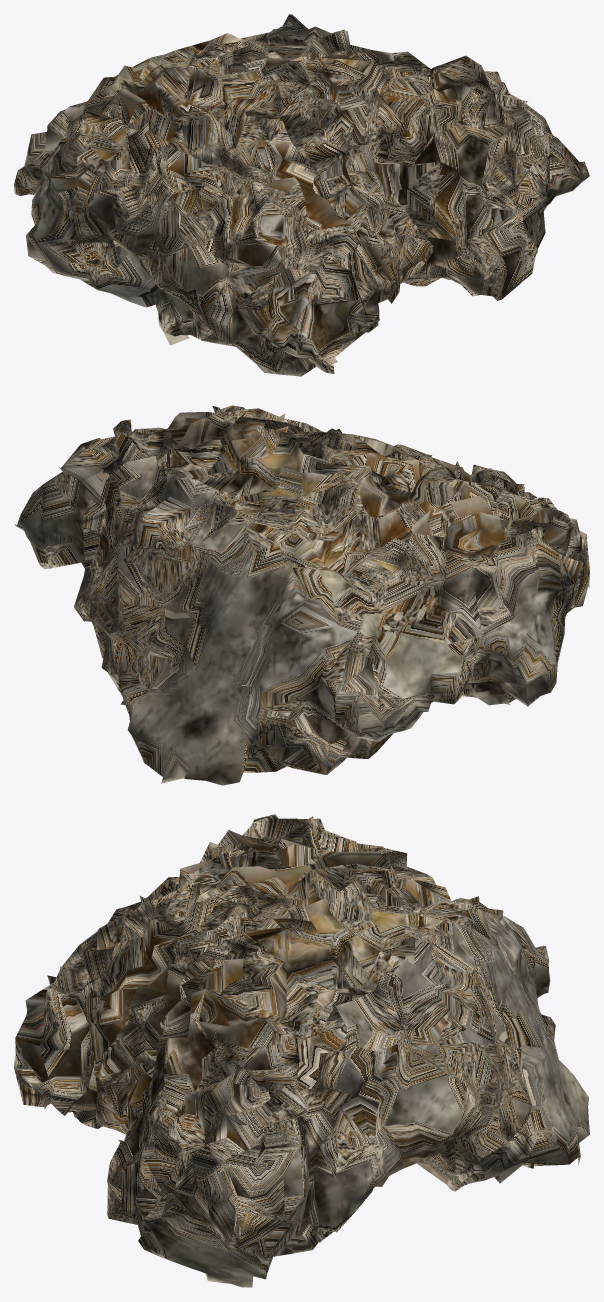
Rendered from coral-goniastrea.glb.
The picture shows the model from 3 angles, top to bottom: view 1: azimuth 30°, elevation 25°; view 2: azimuth 150°, elevation 25°; view 3: azimuth 270°, elevation 25°; orthographic projection. The views are drawn at different scales.
Size of the model in its own units: 0.0794 by 0.0353 by 0.0652.
1 material, 1 textured.
